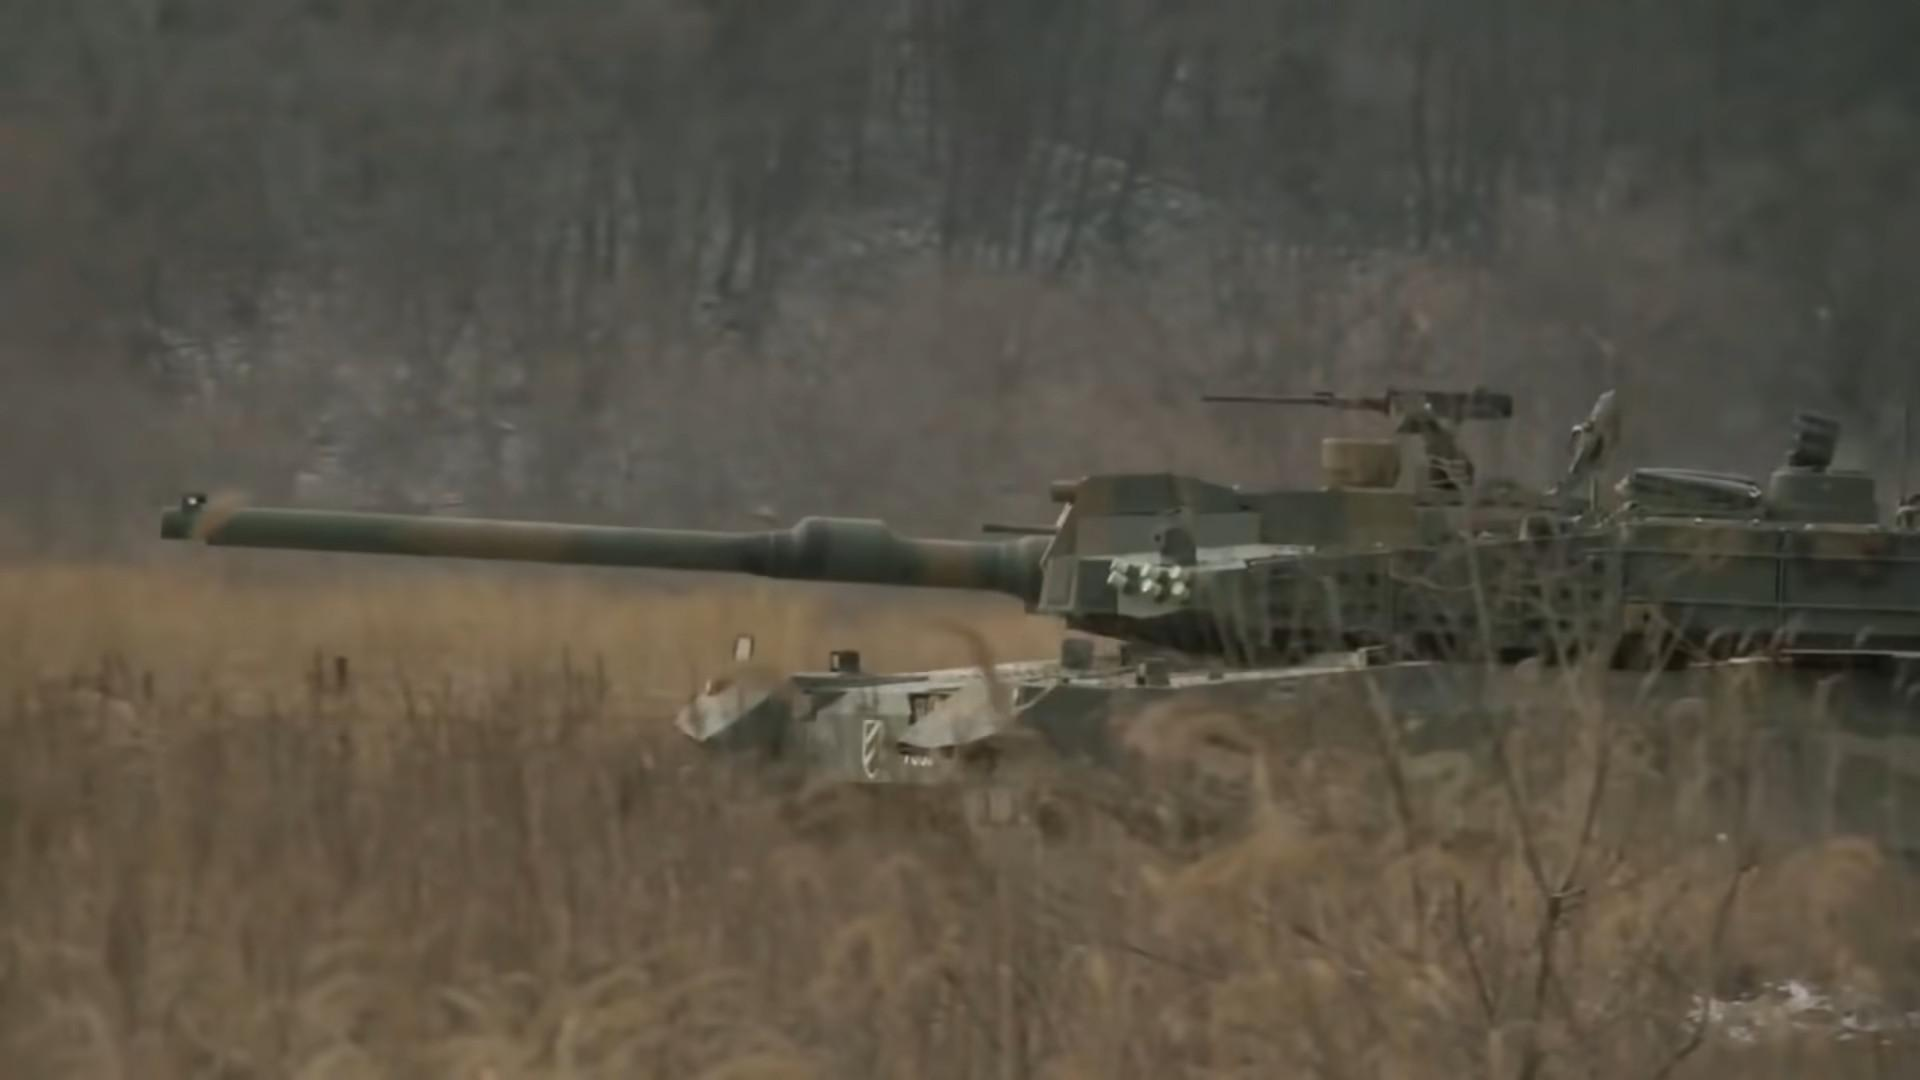tank: (158, 407, 1916, 982)
